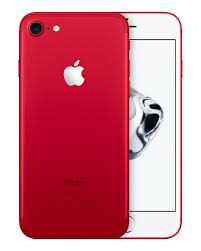iphone: (18, 10, 129, 239)
iphone8: (17, 11, 128, 240), (126, 10, 181, 237)
